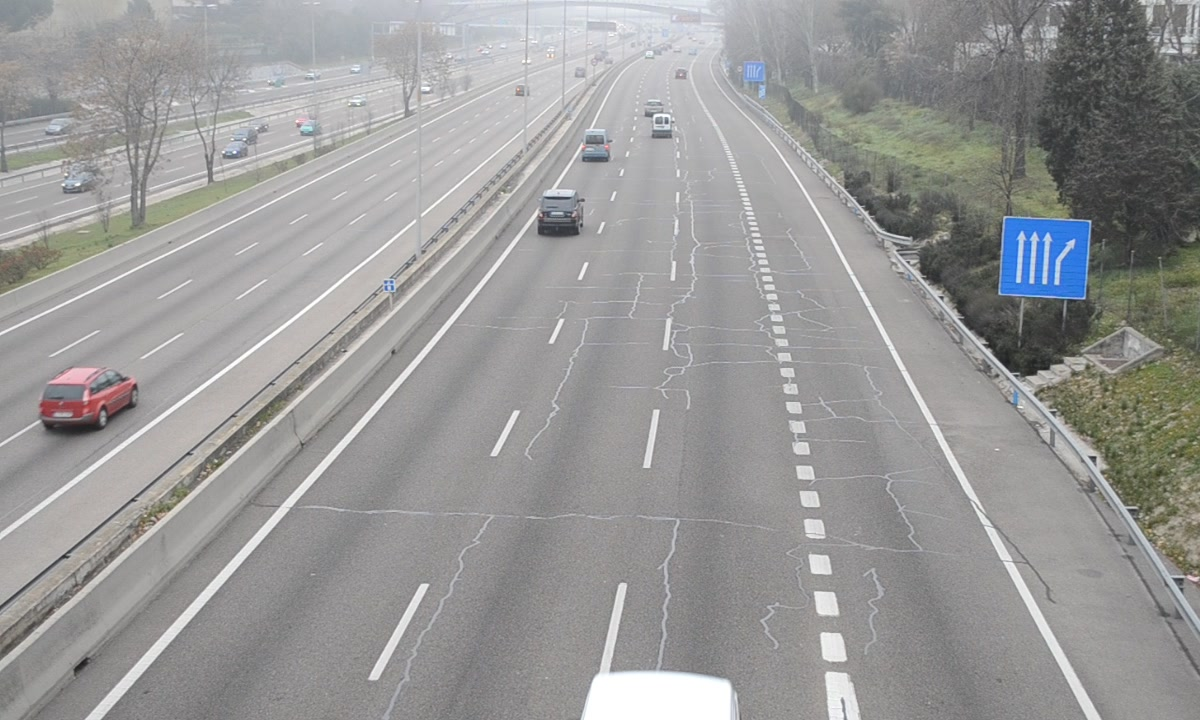car: (537, 189, 582, 233)
van: (581, 128, 612, 163)
